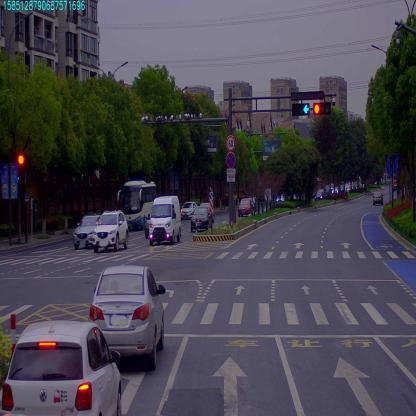traffic-light: (291, 102, 310, 116), (312, 102, 331, 115)
